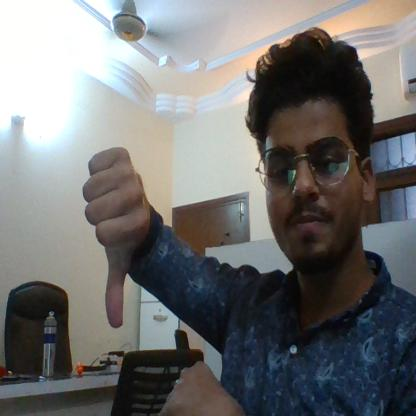thumbs-down: (78, 145, 150, 339)
